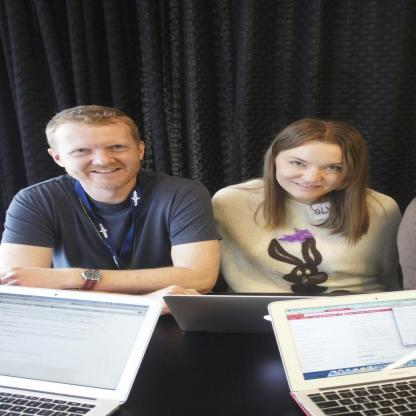board: (0, 285, 163, 416), (267, 293, 414, 416), (161, 295, 330, 332)
